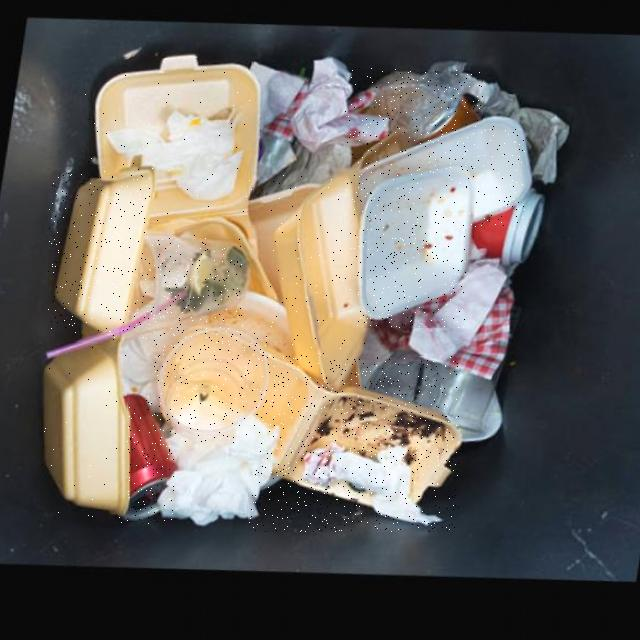metal: (121, 394, 174, 524)
plastic: (105, 238, 243, 343), (345, 68, 483, 172), (152, 331, 267, 443)
styrofoam: (249, 356, 459, 532), (86, 58, 253, 258), (268, 174, 367, 398), (352, 124, 525, 229), (354, 172, 467, 328), (48, 172, 148, 334), (42, 342, 127, 521)
